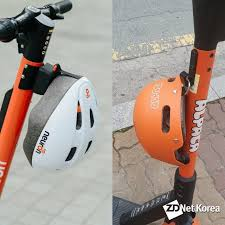kick_neck: (165, 50, 218, 195)
